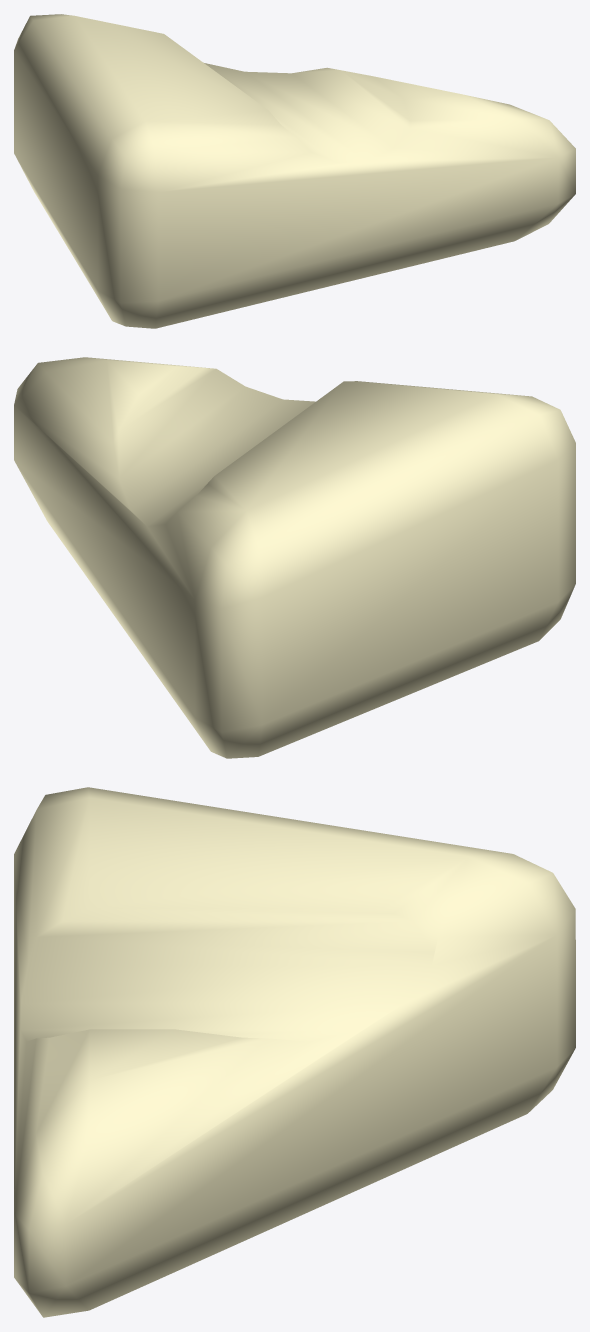
Rendered from cheese.glb.
3 renders of one model, top to bottom at view 1: azimuth 30°, elevation 25°; view 2: azimuth 150°, elevation 25°; view 3: azimuth 270°, elevation 25°, orthographic. The views are drawn at different scales.
Visible parts, largest first — view 1: cheese; view 2: cheese; view 3: cheese.
Boxes of the visible parts, x1,y1,x2,y2 form: cheese: (14,14,575,328); cheese: (14,357,575,758); cheese: (14,787,575,1317).
Bounding box in the file's own units: 0.3891 × 0.1672 × 0.2975.
